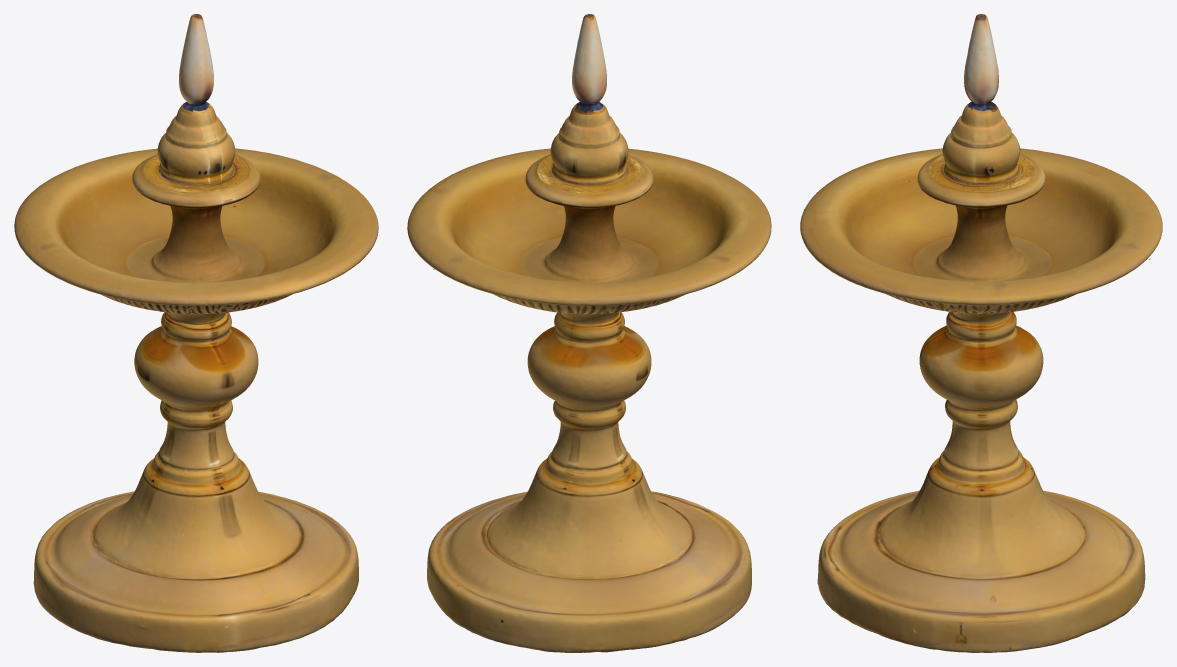
3 renders of one model, left to right at view 1: azimuth 30°, elevation 25°; view 2: azimuth 150°, elevation 25°; view 3: azimuth 270°, elevation 25°, orthographic.
Visible parts, largest first — view 1: Object_4, Object_5, Object_6; view 2: Object_4, Object_5, Object_6; view 3: Object_4, Object_5, Object_6.
Boxes of the visible parts, x1,y1,x2,y2 form: Object_4: (16, 14, 378, 652); Object_5: (14, 16, 371, 607); Object_6: (58, 142, 378, 652); Object_4: (414, 14, 771, 651); Object_5: (407, 14, 758, 652); Object_6: (468, 148, 771, 592); Object_4: (800, 14, 1162, 652); Object_5: (909, 16, 1161, 652); Object_6: (825, 136, 953, 651).
Bounding box in the file's own units: 1.1 × 1.9 × 1.1.
Materials: 1 (1 with a texture image).
